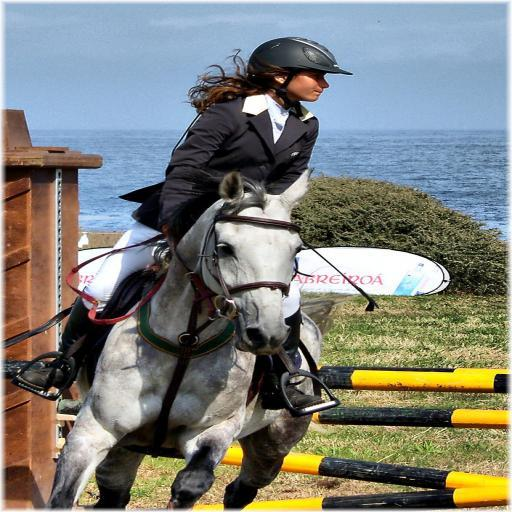Horse: (39, 168, 323, 510)
